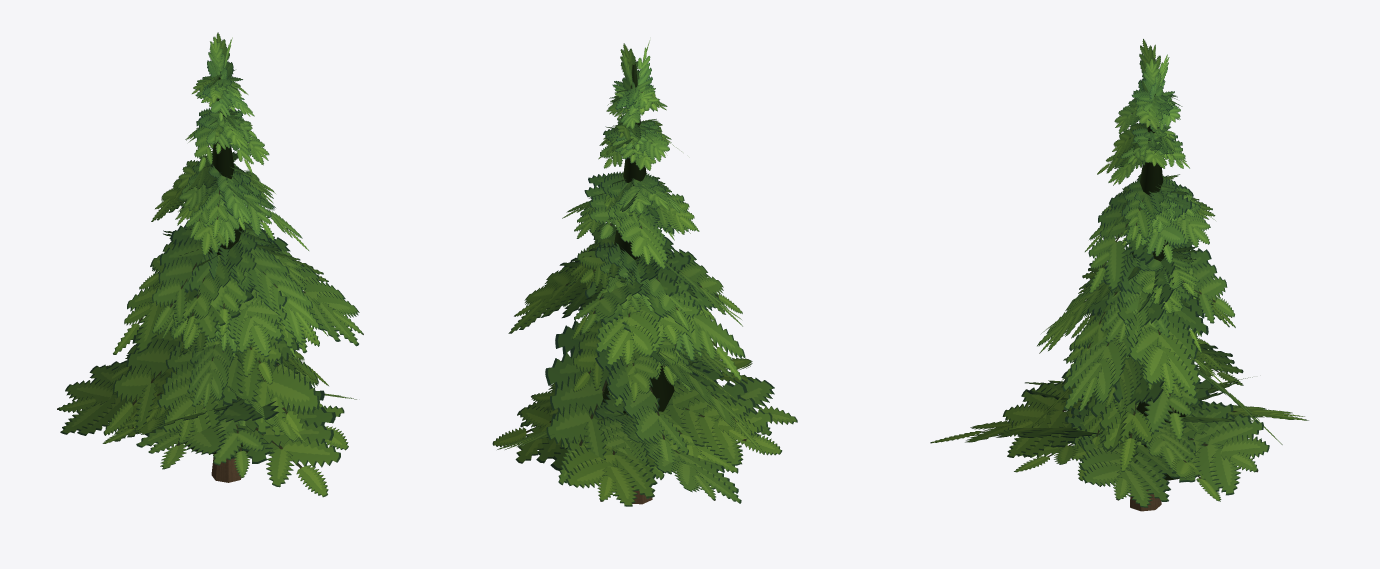
Rendered from fir4_e.glb.
3 views of the same model, side by side, from view 1: azimuth 30°, elevation 25°; view 2: azimuth 150°, elevation 25°; view 3: azimuth 270°, elevation 25° (orthographic). The views are drawn at different scales.
Parts seen in each view (by area): view 1: fir4_e; view 2: fir4_e; view 3: fir4_e.
Boxes of the visible parts, bbox=[...] form: fir4_e: bbox=[57, 32, 363, 497]; fir4_e: bbox=[492, 40, 797, 506]; fir4_e: bbox=[930, 39, 1308, 511].
Size of the model in its own units: 4.35 by 5.68 by 5.15.
Materials: 2 (2 with a texture image).
